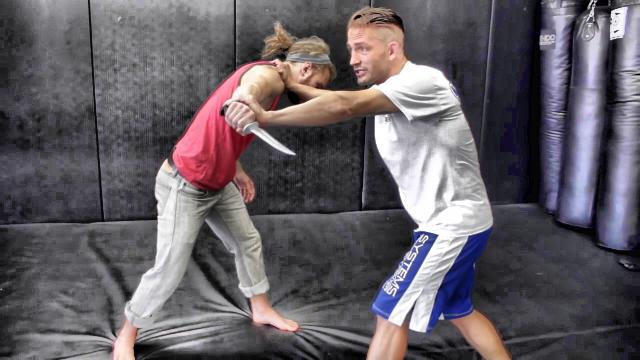knife: (216, 101, 302, 161)
